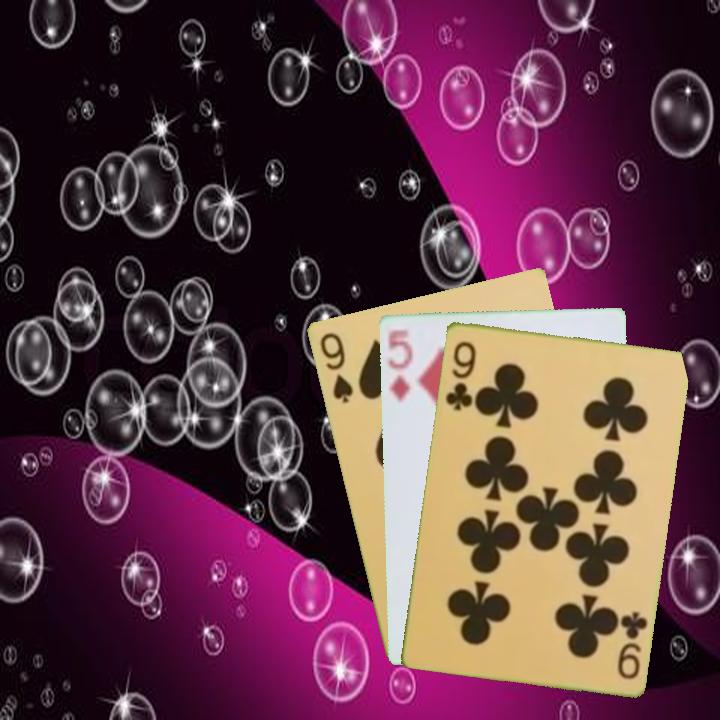5d: (383, 325, 415, 405)
9c: (441, 337, 479, 413), (613, 607, 650, 682)
9s: (316, 329, 356, 406)
